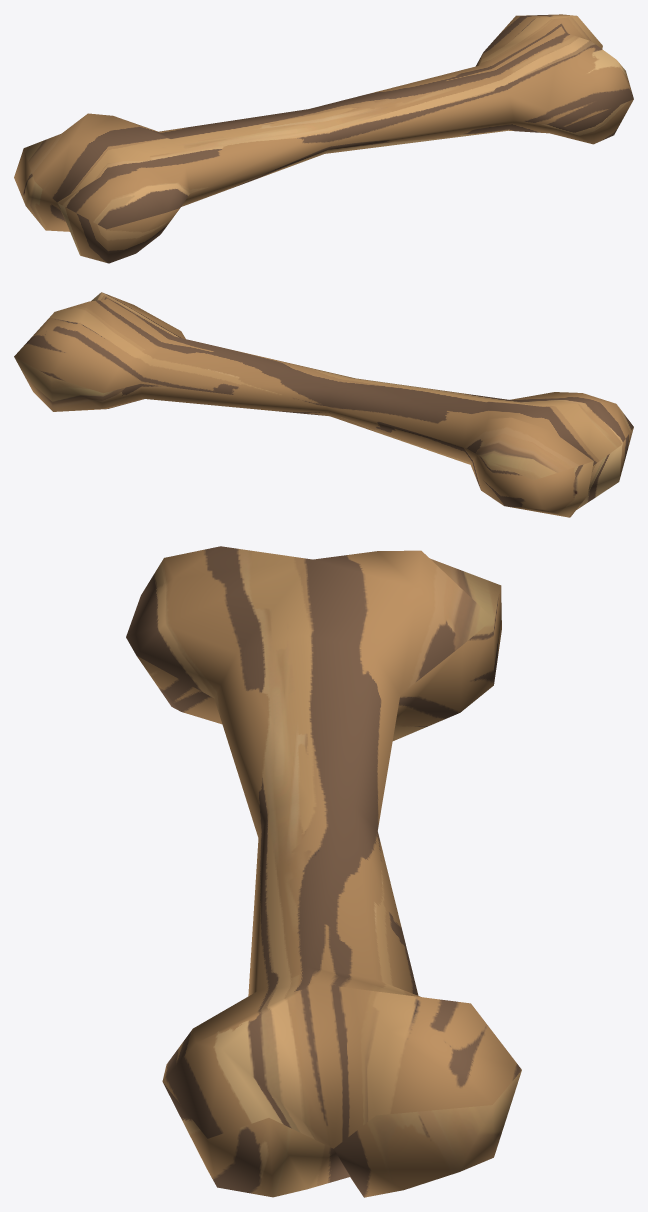
Rendered from SM_PROP_skeleton_bone_dungeon_03.fbx.
3 renders of one model, top to bottom at view 1: azimuth 30°, elevation 25°; view 2: azimuth 150°, elevation 25°; view 3: azimuth 270°, elevation 25°, orthographic. The views are drawn at different scales.
Parts seen in each view (by area): view 1: SM_PROP_skeleton_bone_dungeon_03; view 2: SM_PROP_skeleton_bone_dungeon_03; view 3: SM_PROP_skeleton_bone_dungeon_03.
Boxes of the visible parts, box(x1,y1,x2,y2) form: SM_PROP_skeleton_bone_dungeon_03: box(14, 14, 633, 263); SM_PROP_skeleton_bone_dungeon_03: box(14, 292, 633, 517); SM_PROP_skeleton_bone_dungeon_03: box(126, 546, 521, 1197).
Size of the model in its own units: 39.98 by 7.39 by 12.35.
